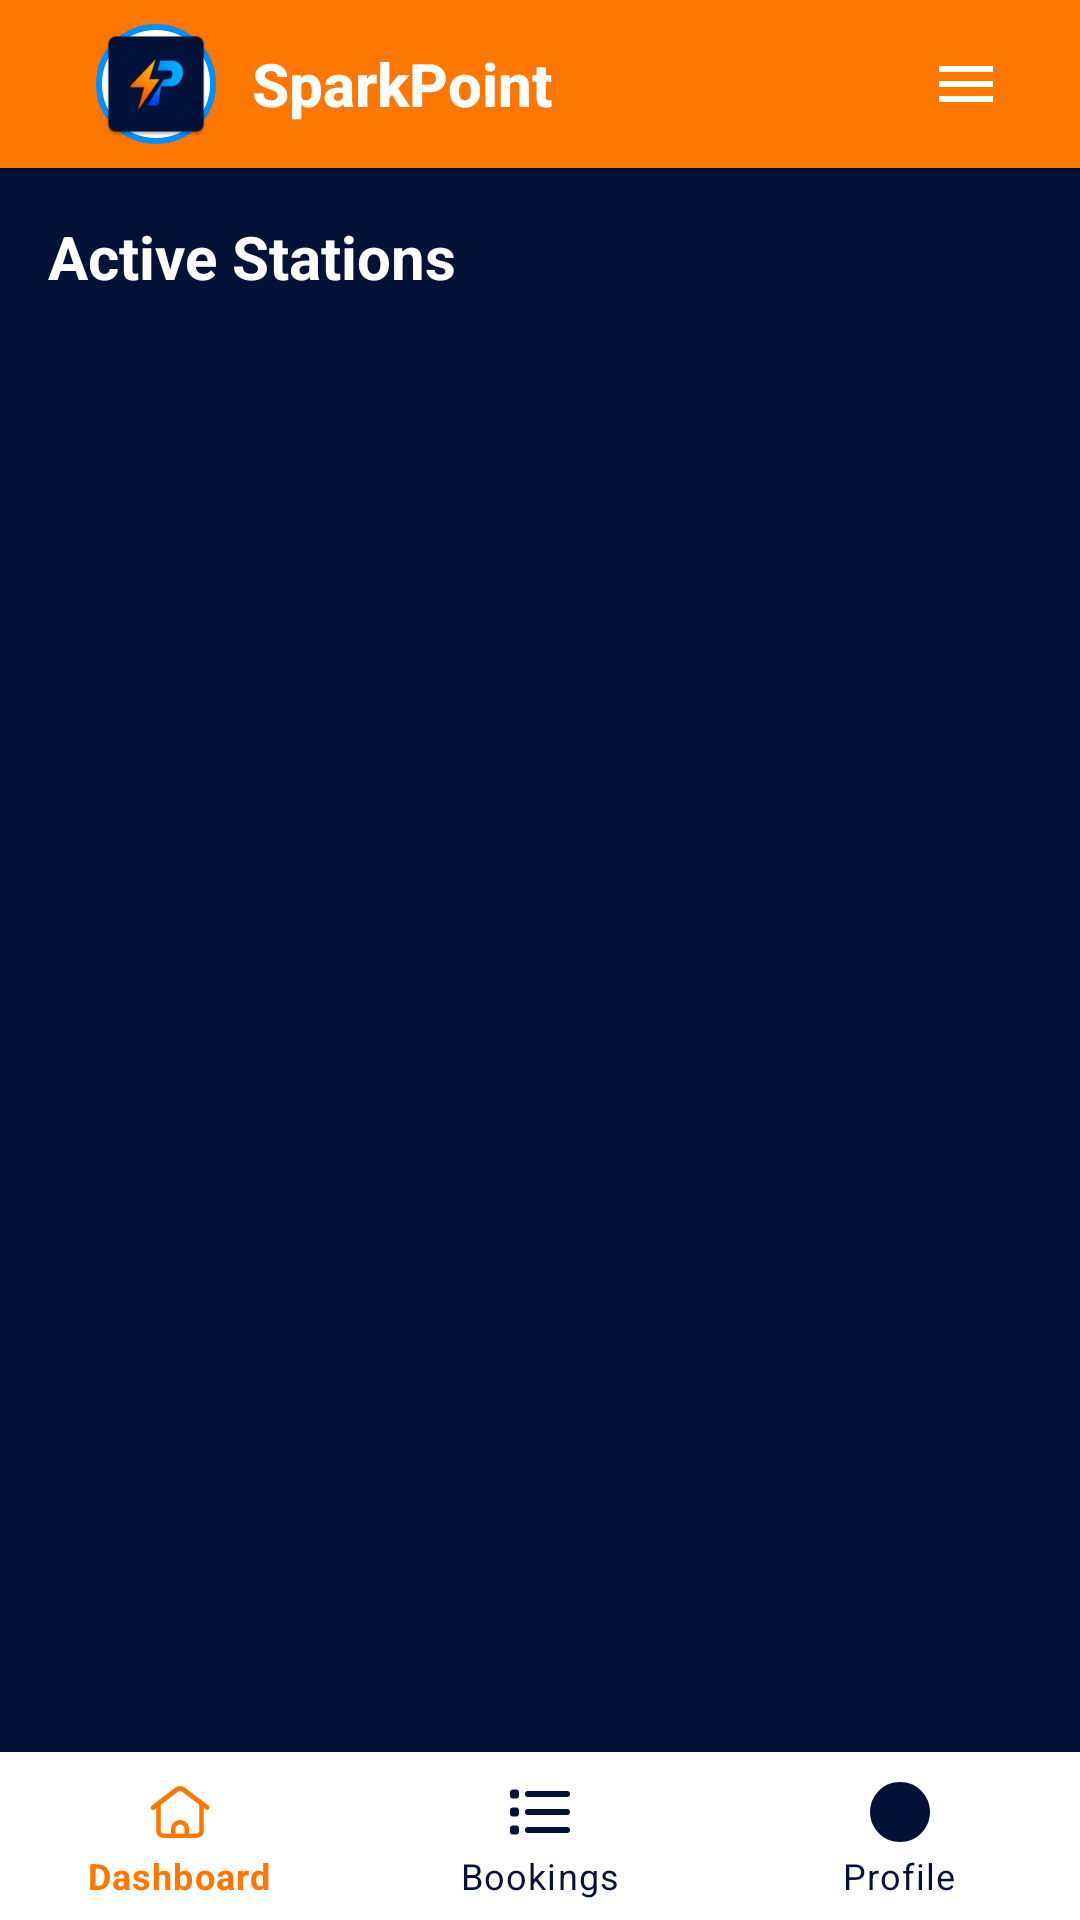

Icons on this 1080 × 1920 Android screen, each with the point to tap as [x,y]:
Menu: [966,84]
